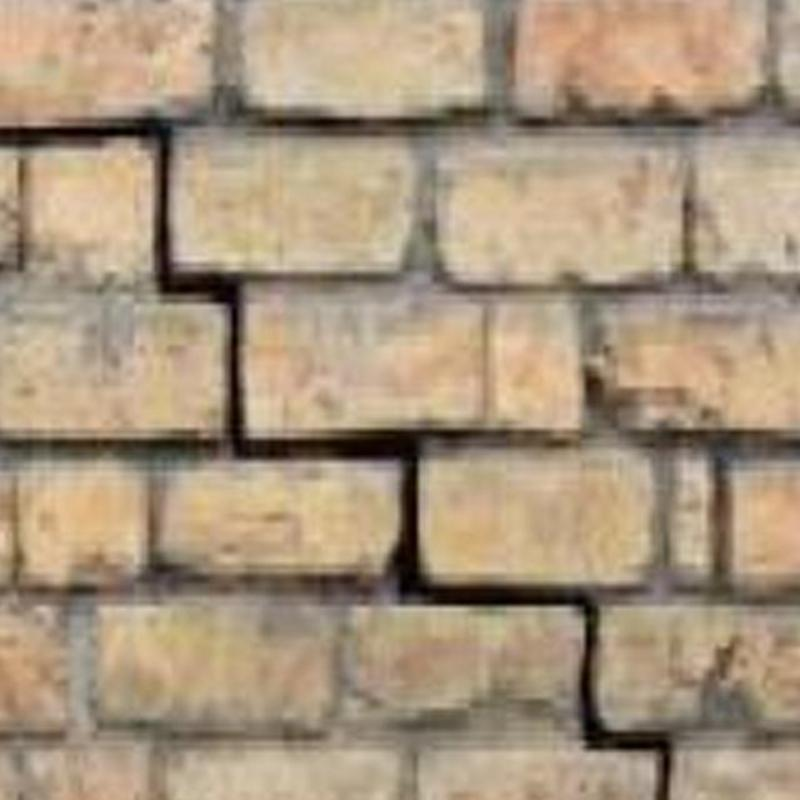pothole: (0, 120, 672, 799)
